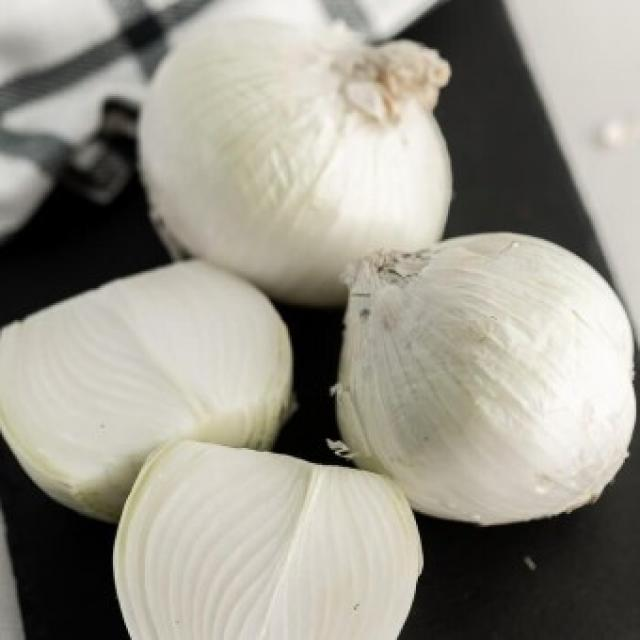onion: (342, 240, 628, 518), (135, 22, 458, 250), (113, 417, 443, 640), (8, 262, 310, 467)
